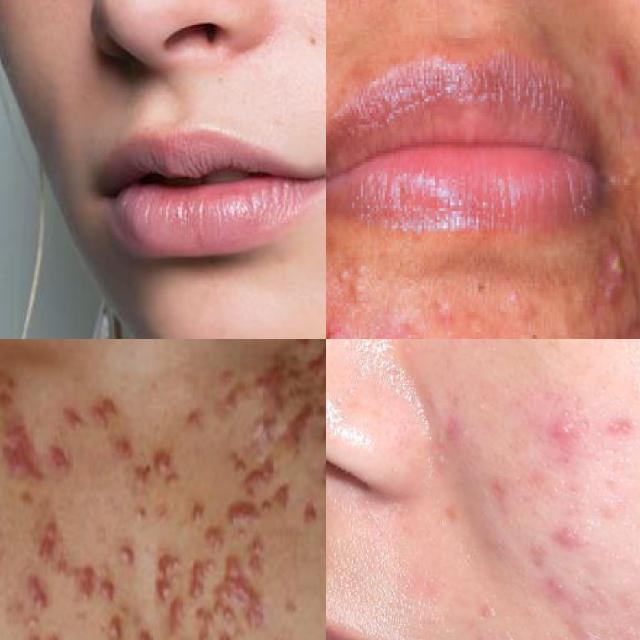comedone: (382, 339, 427, 379)
keloid: (188, 538, 276, 640), (0, 366, 49, 504), (36, 518, 98, 606), (214, 359, 299, 419), (120, 491, 213, 534), (97, 545, 138, 640), (60, 389, 119, 444), (158, 534, 184, 638), (135, 440, 183, 493), (230, 444, 280, 487), (294, 490, 326, 553), (19, 602, 68, 640), (42, 438, 74, 489), (221, 495, 263, 529), (307, 339, 326, 396)
milium: (466, 376, 492, 419)
papule: (535, 392, 605, 470)
